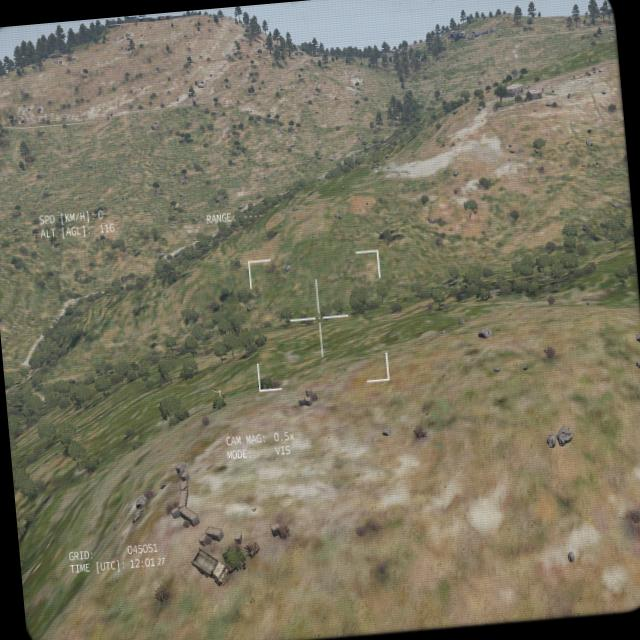truck: (190, 544, 230, 588)
